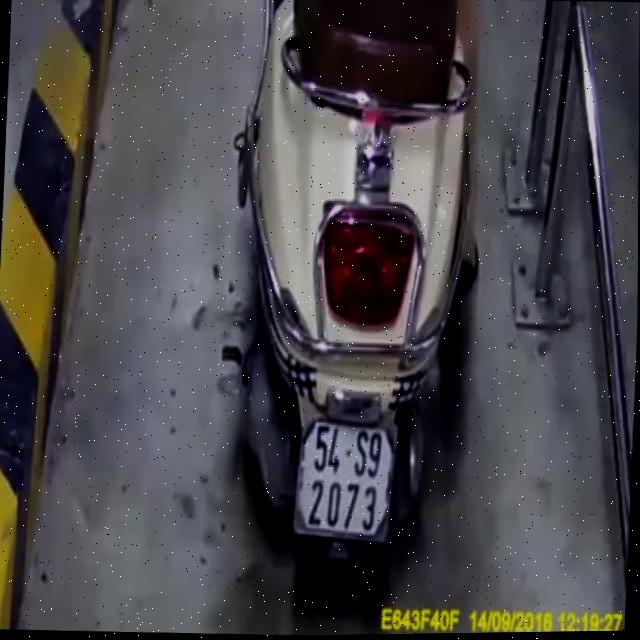motorcycle: (205, 0, 496, 603)
plate: (290, 408, 399, 544)
